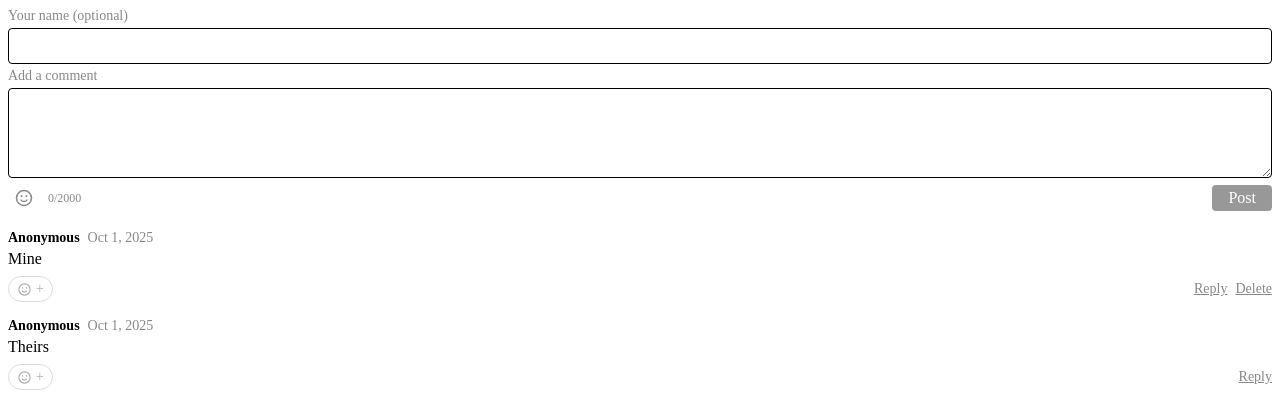
it: CommentThread › lets authors delete their own comments
Click the button "Delete" at (1254, 289), box x1=1236 y1=281 x2=1272 y2=297
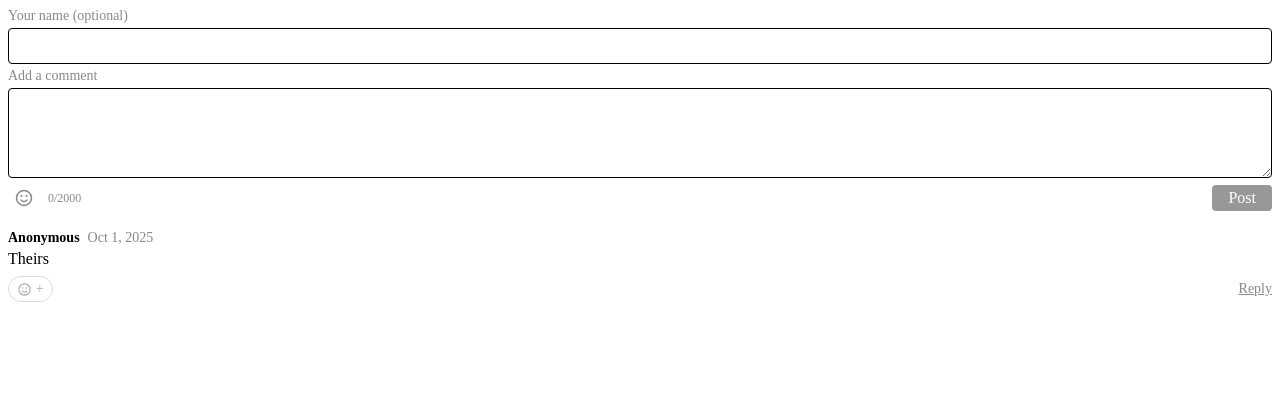
Check: the text "Mine" is gone
